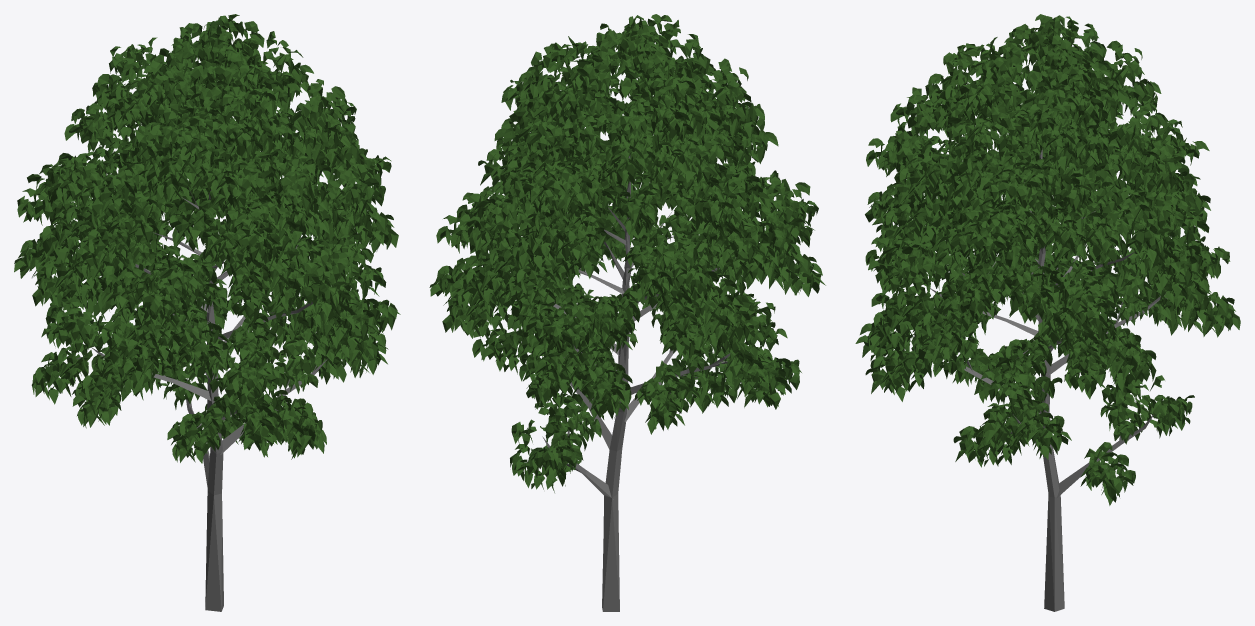
The model's file is tree1.obj.
3 renders of one model, left to right at view 1: azimuth 30°, elevation 25°; view 2: azimuth 150°, elevation 25°; view 3: azimuth 270°, elevation 25°, orthographic. The views are drawn at different scales.
Visible parts, largest first — view 1: Tree.Birch_Tree.Birch.Leaf.Summer.Mat, Tree.Birch_Tree.Birch.Bark.Mat; view 2: Tree.Birch_Tree.Birch.Leaf.Summer.Mat, Tree.Birch_Tree.Birch.Bark.Mat; view 3: Tree.Birch_Tree.Birch.Leaf.Summer.Mat, Tree.Birch_Tree.Birch.Bark.Mat.
Boxes of the visible parts, box(x1,y1,x2,y2) form: Tree.Birch_Tree.Birch.Leaf.Summer.Mat: box(14, 14, 400, 463); Tree.Birch_Tree.Birch.Bark.Mat: box(76, 188, 328, 611); Tree.Birch_Tree.Birch.Leaf.Summer.Mat: box(429, 14, 825, 492); Tree.Birch_Tree.Birch.Bark.Mat: box(521, 155, 736, 611); Tree.Birch_Tree.Birch.Leaf.Summer.Mat: box(855, 14, 1240, 505); Tree.Birch_Tree.Birch.Bark.Mat: box(896, 148, 1167, 611).
Bounding box in the file's own units: 2.39 × 3.92 × 2.37.
